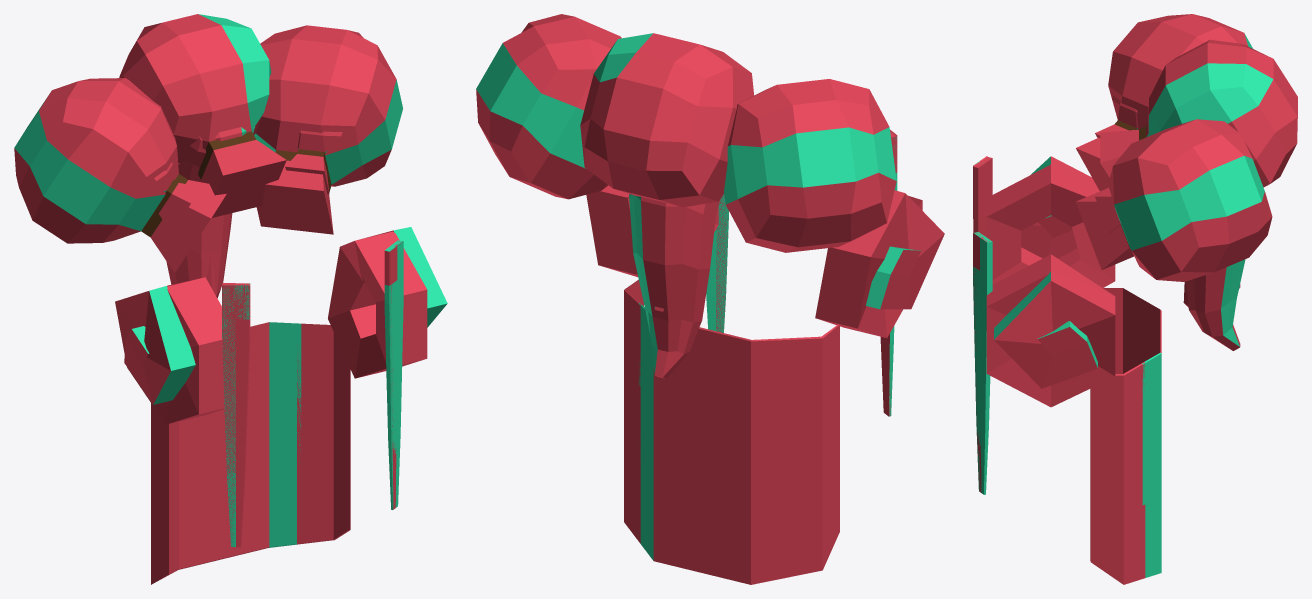
The model's file is SecondaryHair.fbx.
3 renders of one model, left to right at view 1: azimuth 30°, elevation 25°; view 2: azimuth 150°, elevation 25°; view 3: azimuth 270°, elevation 25°, orthographic. The views are drawn at different scales.
Parts seen in each view (by area): view 1: SecondHair_DoubleBall_Big, SecondHair_NormalLong, SecondHair_Leia, SecondHair_Ball, SecondHair_NormalMedium, SecondHair_FrontWick_Long, SecondHair_NormalShort, SecondHair_FrontRightWick_Long, SecondHair_DoubleBall_Small, SecondHair_PonytailLong, SecondHair_FrontWick_Medium, SecondHair_BallPonytail (+2 smaller); view 2: SecondHair_DoubleBall_Big, SecondHair_NormalLong, SecondHair_Ball, SecondHair_NormalMedium, SecondHair_Leia, SecondHair_PonytailLong, SecondHair_NormalShort, SecondHair_FrontWick_Long, SecondHair_FrontLeftWick_Long; view 3: SecondHair_DoubleBall_Big, SecondHair_Leia, SecondHair_NormalLong, SecondHair_Ball, SecondHair_NormalMedium, SecondHair_FrontWick_Long, SecondHair_PonytailLong, SecondHair_NormalShort, SecondHair_DoubleBall_Small, SecondHair_FrontWick_Medium, SecondHair_FrontLeftWick_Long, SecondHair_FrontLeftWick_Short.
Boxes of the visible parts, x1,y1,x2,y2 form: SecondHair_DoubleBall_Big: (14, 25, 402, 272); SecondHair_NormalLong: (151, 322, 350, 584); SecondHair_Leia: (115, 227, 447, 424); SecondHair_Ball: (119, 14, 286, 217); SecondHair_NormalMedium: (151, 323, 350, 506); SecondHair_FrontWick_Long: (222, 275, 403, 546); SecondHair_NormalShort: (151, 322, 350, 438); SecondHair_FrontRightWick_Long: (222, 285, 249, 547); SecondHair_DoubleBall_Small: (154, 130, 342, 232); SecondHair_PonytailLong: (166, 161, 232, 298); SecondHair_FrontWick_Medium: (222, 240, 400, 319); SecondHair_BallPonytail: (183, 126, 254, 293); SecondHair_DoubleBall_Big: (476, 14, 896, 252); SecondHair_NormalLong: (624, 279, 839, 584); SecondHair_Ball: (580, 33, 753, 206); SecondHair_NormalMedium: (625, 281, 839, 502); SecondHair_Leia: (586, 185, 944, 337); SecondHair_PonytailLong: (629, 194, 719, 378); SecondHair_NormalShort: (624, 280, 839, 418); SecondHair_FrontWick_Long: (706, 194, 891, 416); SecondHair_FrontLeftWick_Long: (706, 195, 728, 332); SecondHair_DoubleBall_Big: (1076, 14, 1272, 281); SecondHair_Leia: (986, 156, 1115, 407); SecondHair_NormalLong: (1090, 288, 1161, 584); SecondHair_Ball: (1100, 39, 1297, 187); SecondHair_NormalMedium: (1090, 288, 1161, 510); SecondHair_FrontWick_Long: (973, 159, 992, 494); SecondHair_PonytailLong: (1186, 259, 1245, 350); SecondHair_NormalShort: (1090, 288, 1161, 431); SecondHair_DoubleBall_Small: (1095, 95, 1138, 232); SecondHair_FrontWick_Medium: (973, 157, 992, 275); SecondHair_FrontLeftWick_Long: (973, 267, 986, 494); SecondHair_FrontLeftWick_Short: (973, 232, 989, 275).
Size of the model in its own units: 175 by 231 by 136.
